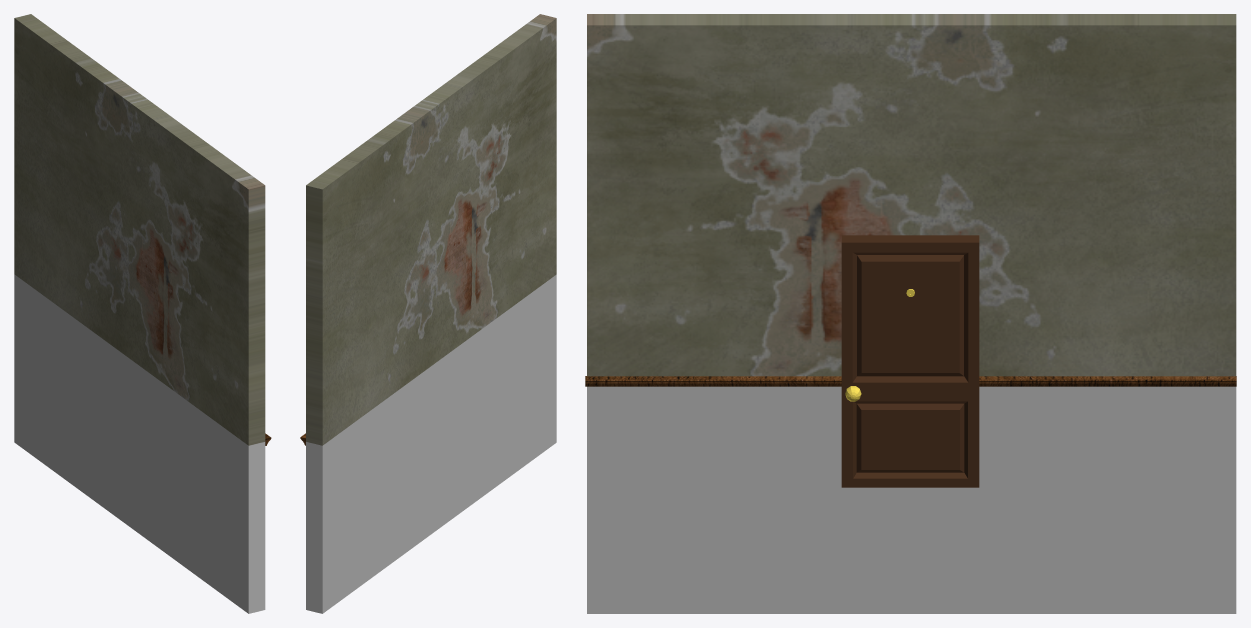
The model's file is 3ekduvar.fbx.
The picture shows the model from 3 angles, left to right: view 1: azimuth 30°, elevation 25°; view 2: azimuth 150°, elevation 25°; view 3: azimuth 270°, elevation 25°; orthographic projection. The views are drawn at different scales.
Parts seen in each view (by area): view 1: ekduvar; view 2: ekduvar; view 3: ekduvar.
Part boxes in pixels (<box>): ekduvar: <box>14,14,271,613</box>; ekduvar: <box>300,14,556,613</box>; ekduvar: <box>585,14,1236,613</box>.
Size of the model in its own units: 46.41 by 530 by 531.
